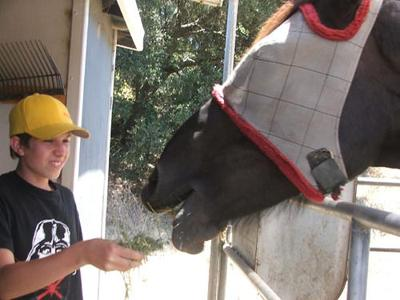person: (1, 94, 146, 300)
